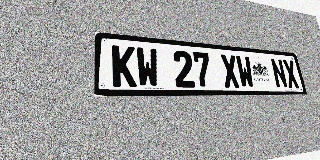2: (173, 50, 195, 88)
7: (191, 52, 213, 88)
K: (112, 45, 137, 87)
N: (270, 58, 288, 88)
W: (136, 47, 160, 87), (235, 55, 255, 88)
X: (220, 54, 240, 88), (282, 59, 300, 88)
